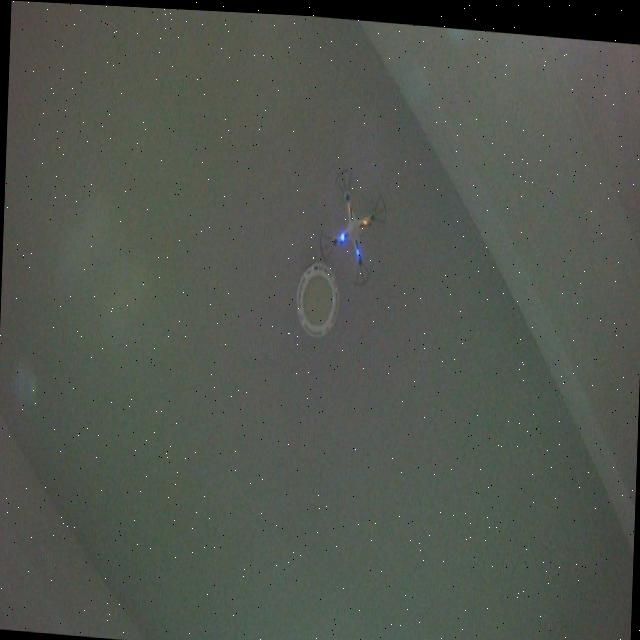drone: (315, 157, 390, 288)
